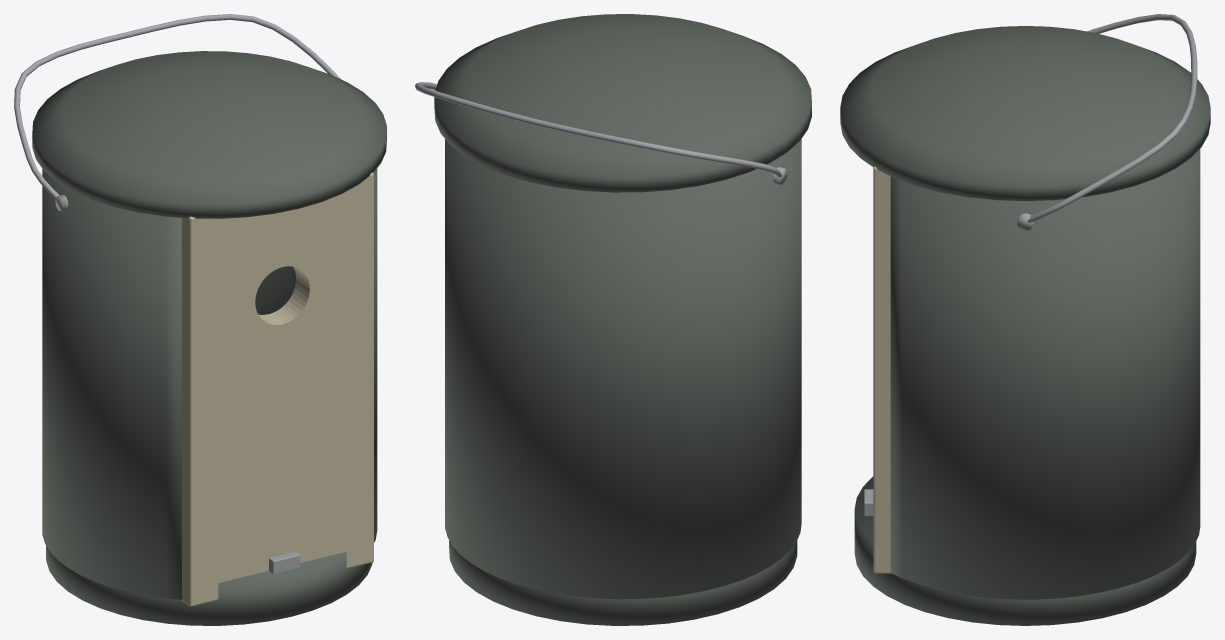
Rendered from full.glb.
3 renders of one model, left to right at view 1: azimuth 30°, elevation 25°; view 2: azimuth 150°, elevation 25°; view 3: azimuth 270°, elevation 25°, orthographic. The views are drawn at different scales.
Parts seen in each view (by area): view 1: Recessed removable front panel, Thick curved chamber wall, Overhanging domed roof, Closed chamber floor, Bent wire hanging loop, Generic front retaining tab; view 2: Thick curved chamber wall, Overhanging domed roof, Closed chamber floor, Bent wire hanging loop; view 3: Thick curved chamber wall, Overhanging domed roof, Closed chamber floor, Recessed removable front panel, Bent wire hanging loop.
Boxes of the visible parts, box(x1,y1,x2,y2) form: Recessed removable front panel: box(181, 172, 373, 606); Thick curved chamber wall: box(42, 168, 377, 599); Overhanging domed roof: box(32, 51, 386, 218); Closed chamber floor: box(46, 545, 372, 625); Bent wire hanging loop: box(14, 14, 341, 201); Generic front retaining tab: box(269, 552, 300, 573); Thick curved chamber wall: box(445, 139, 801, 599); Overhanging domed roof: box(434, 14, 811, 192); Closed chamber floor: box(449, 540, 797, 625); Bent wire hanging loop: box(415, 82, 781, 177); Thick curved chamber wall: box(890, 149, 1200, 599); Overhanging domed roof: box(840, 26, 1210, 200); Closed chamber floor: box(854, 476, 1196, 625); Recessed removable front panel: box(873, 166, 892, 573); Bent wire hanging loop: box(1027, 14, 1197, 222).
Size of the model in its own units: 0.1866 by 0.2606 by 0.18.
